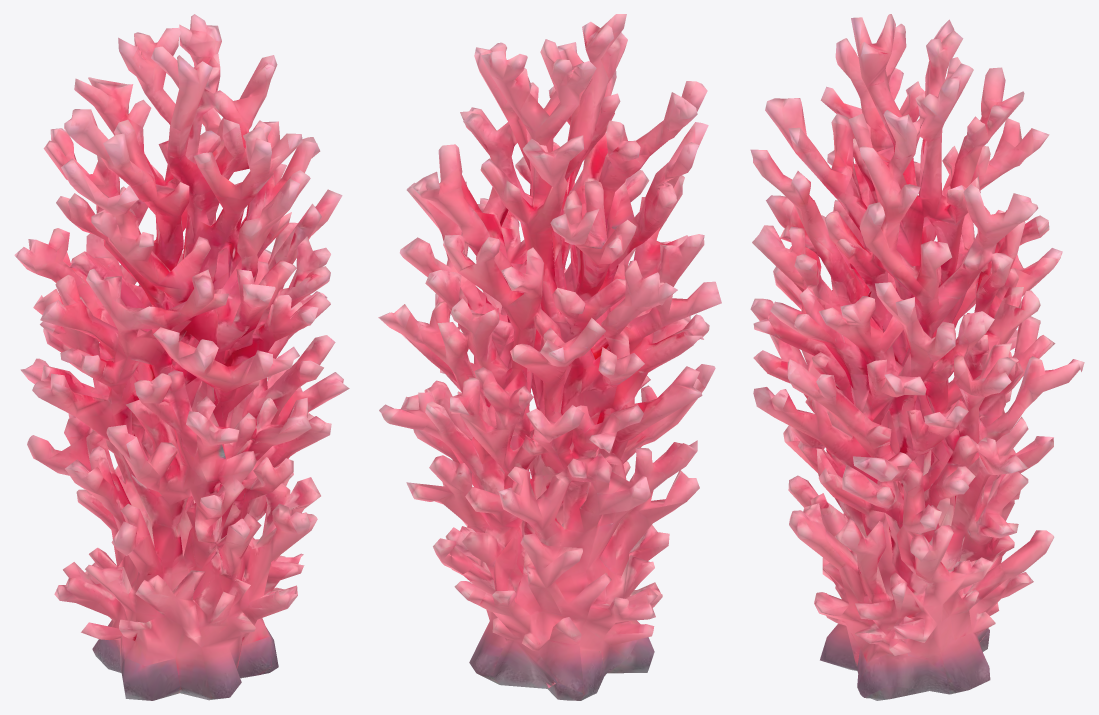
Rendered from coral_stack_pink.glb.
The picture shows the model from 3 angles, left to right: view 1: azimuth 30°, elevation 25°; view 2: azimuth 150°, elevation 25°; view 3: azimuth 270°, elevation 25°; orthographic projection.
Bounding box in the file's own units: 0.9383 × 1.89 × 0.8918.
Materials: 1 (1 with a texture image).
